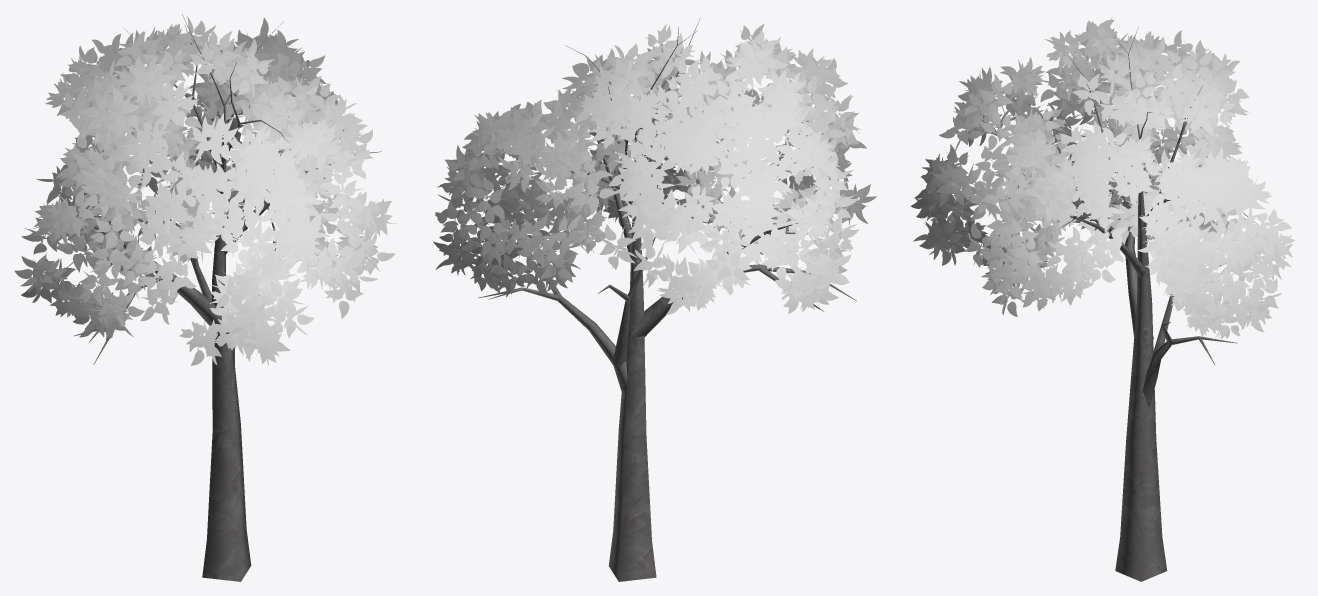
The model's file is Pohon.fbx.
3 renders of one model, left to right at view 1: azimuth 30°, elevation 25°; view 2: azimuth 150°, elevation 25°; view 3: azimuth 270°, elevation 25°, orthographic. The views are drawn at different scales.
Parts seen in each view (by area): view 1: Leaf.001, Leaf.002; view 2: Leaf.001, Leaf.002; view 3: Leaf.001, Leaf.002.
Boxes of the visible parts, box(x1,y1,x2,y2) form: Leaf.001: box(14, 16, 397, 366); Leaf.002: box(62, 14, 381, 581); Leaf.001: box(433, 24, 876, 314); Leaf.002: box(478, 18, 856, 581); Leaf.001: box(910, 17, 1294, 339); Leaf.002: box(1059, 27, 1257, 581).
Bounding box in the file's own units: 447 × 658 × 452.
